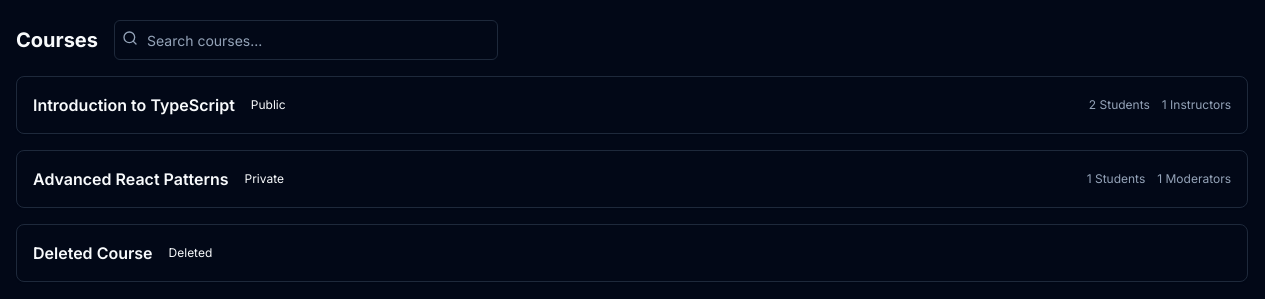
Test: CoursesList › Search Functionality › shows no courses found message when search has no results
The image size is (1265, 299).
Step 1. Type "nonexistent" into the field with placeholder "Search courses..." → (306, 40), box [114,20,498,60]
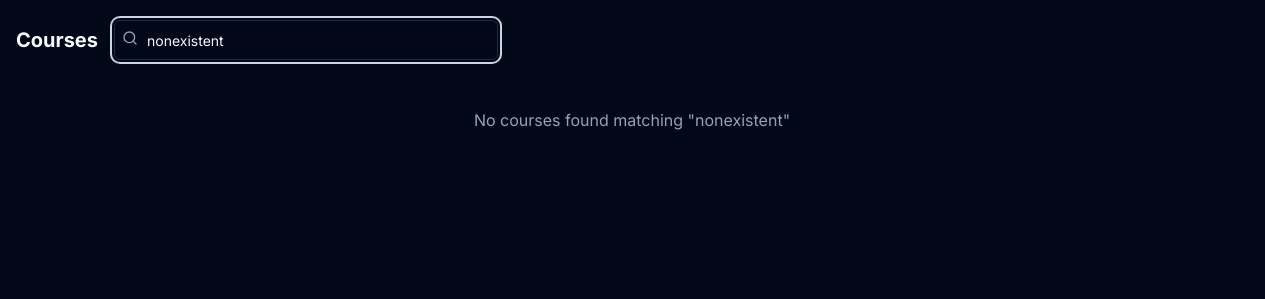
Expected: the text "No courses found matching \"nonexistent\"" is shown, [474,110,790,130]
